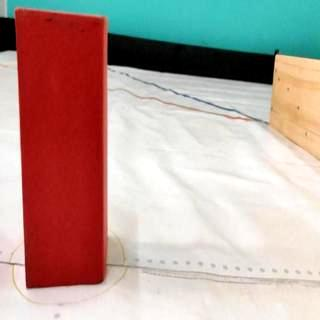redbox: (14, 7, 107, 288)
